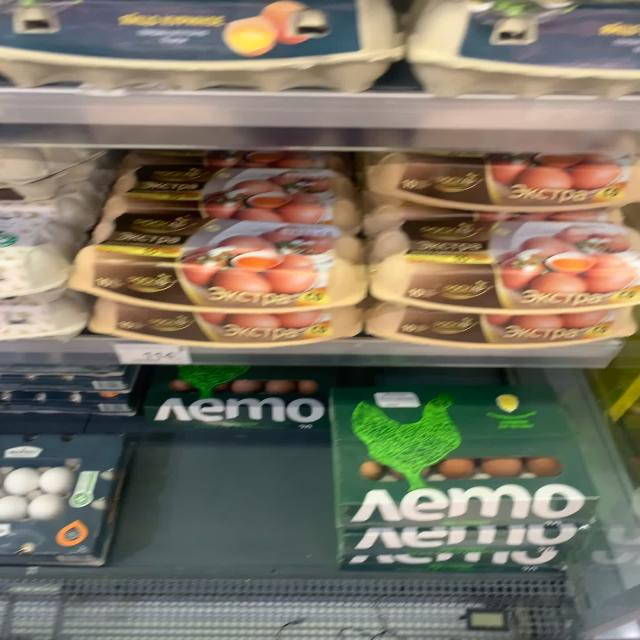egg box: (317, 379, 604, 533), (83, 219, 360, 309), (376, 220, 635, 306), (358, 148, 635, 220), (106, 155, 358, 221)
